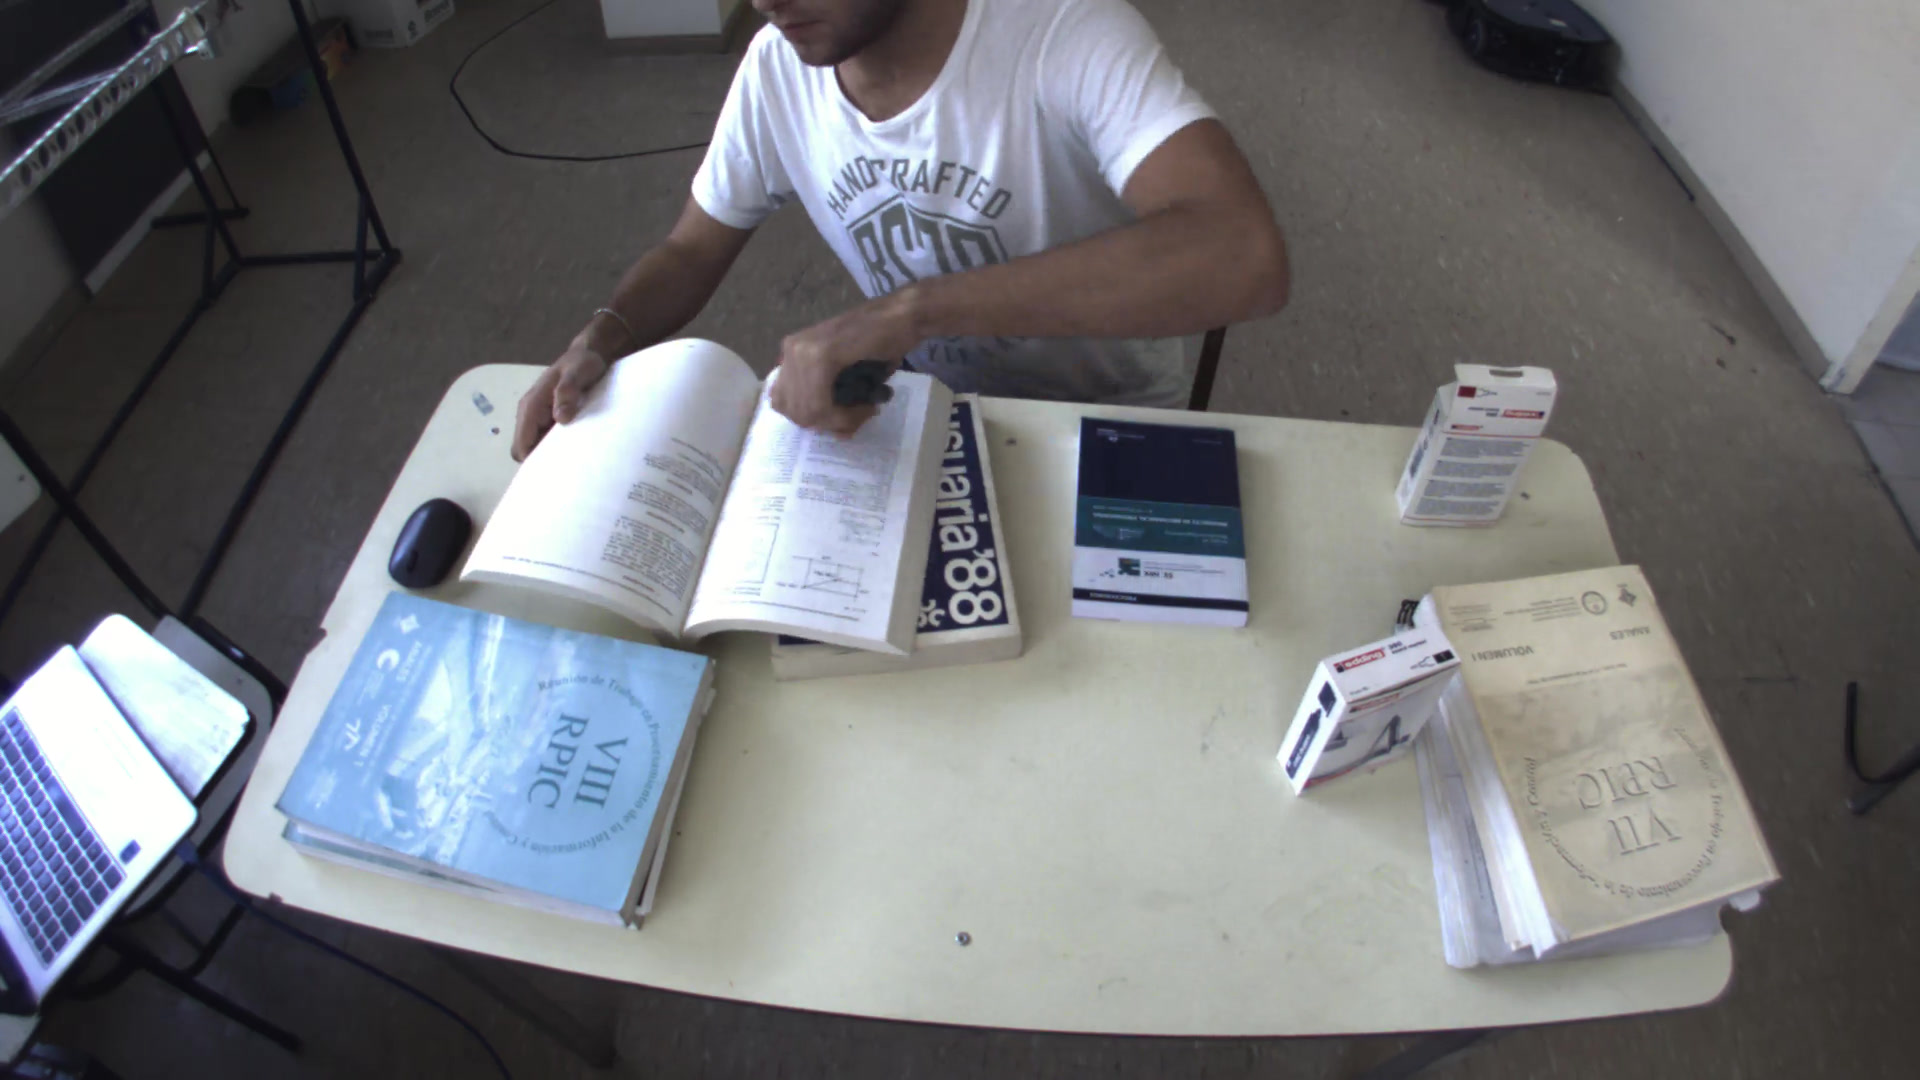hand: (757, 294, 911, 433), (495, 313, 622, 448)
